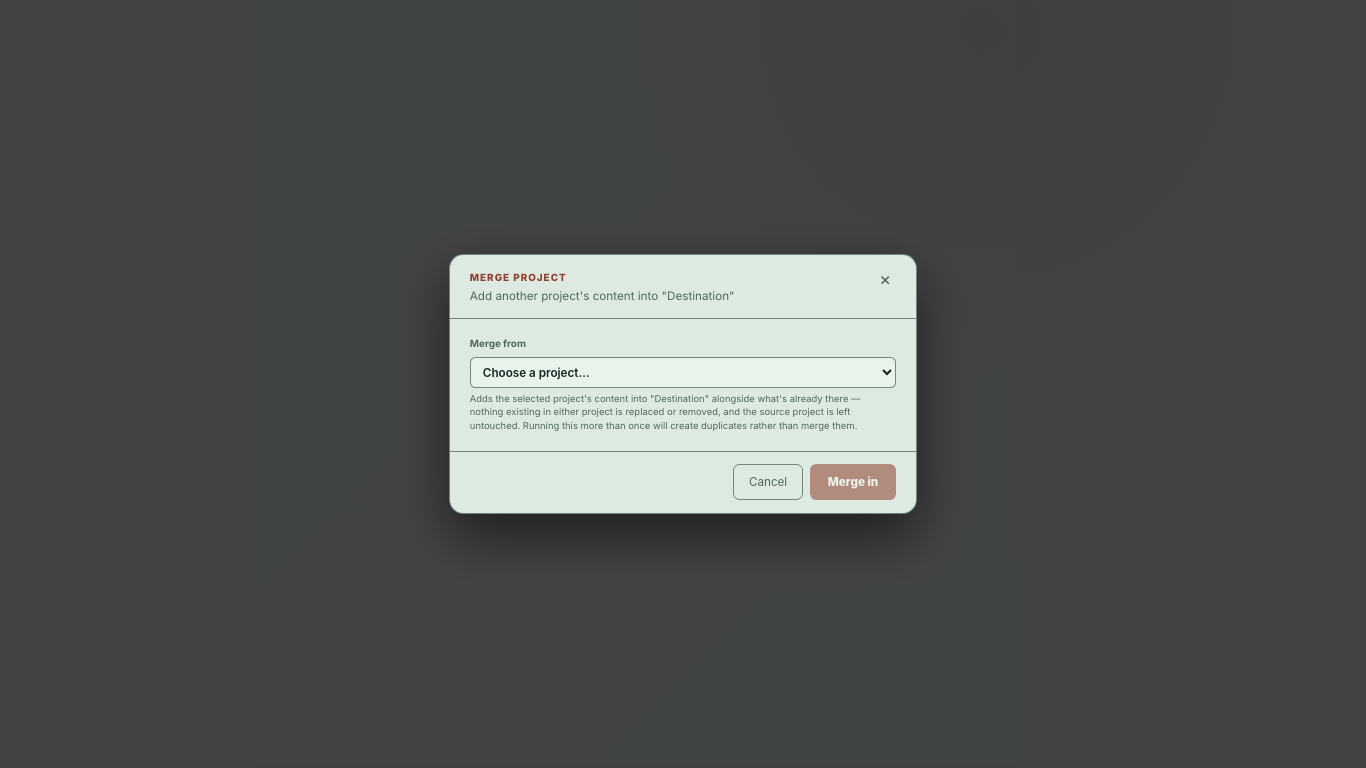
Test: MergeProjectModal › disables Merge in again if every content checkbox is unchecked
This screenshot has width=1366, height=768.
Select "Source Novel" in the dropdown labelled "Merge from": (683, 373) [470,357,896,388]
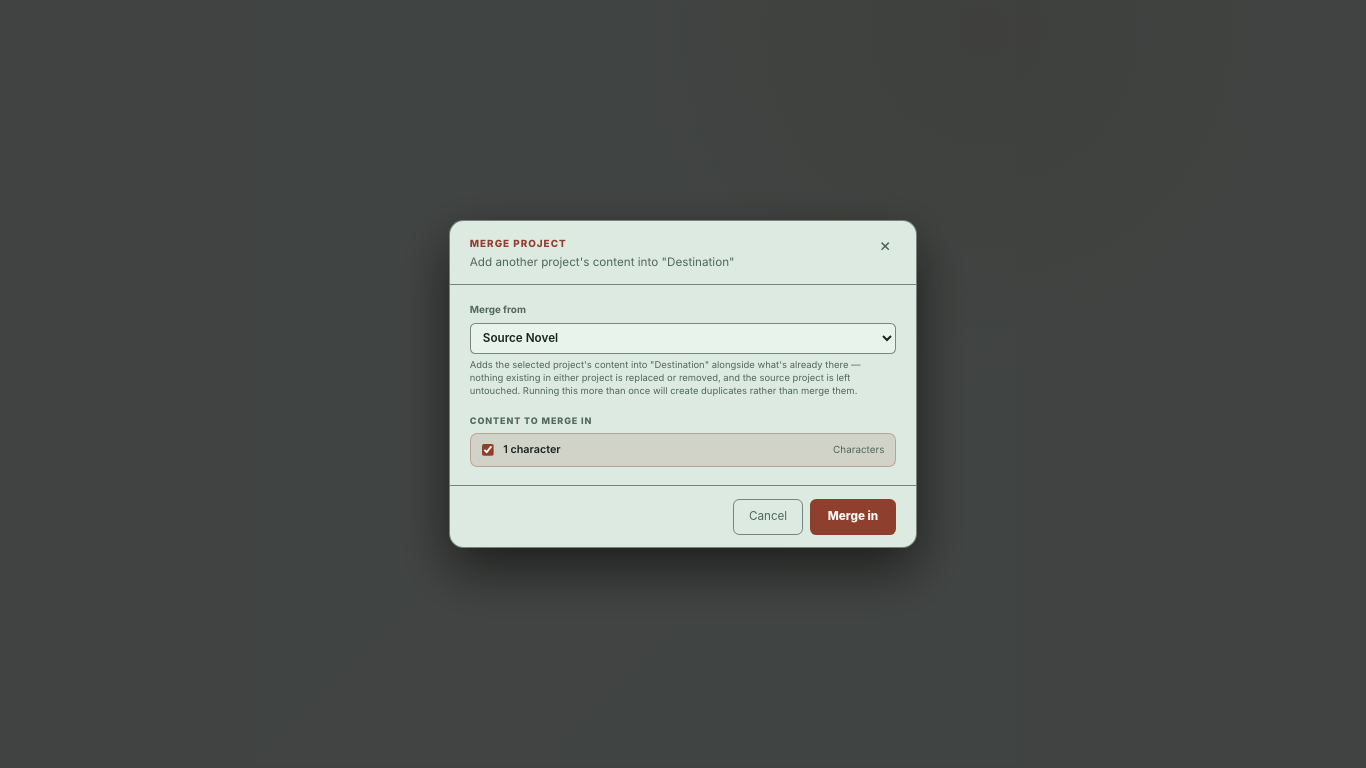
Expected: the button "Merge in" is enabled, [810,499,896,534]
Click the checkbox: (488, 450) [482,444,494,456]
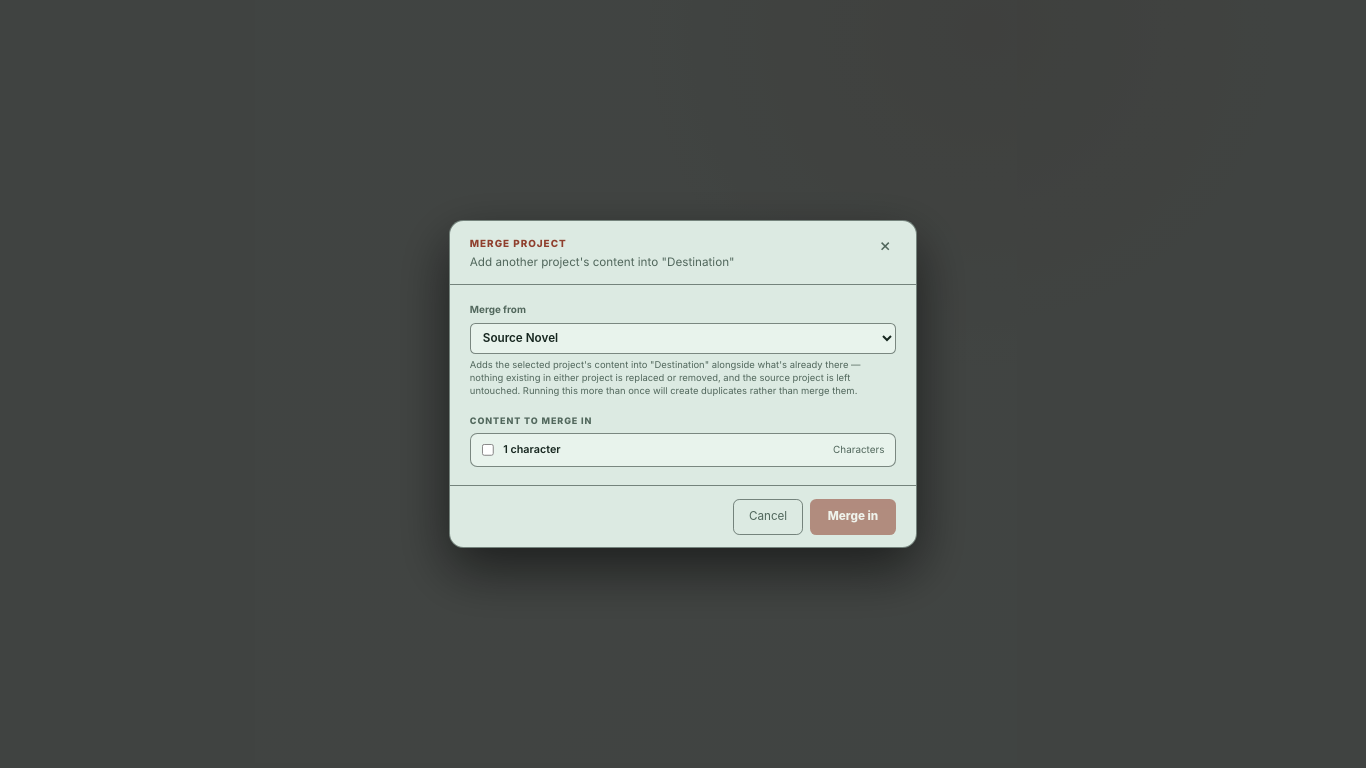
Expected: the button "Merge in" is disabled, [810,499,896,534]
